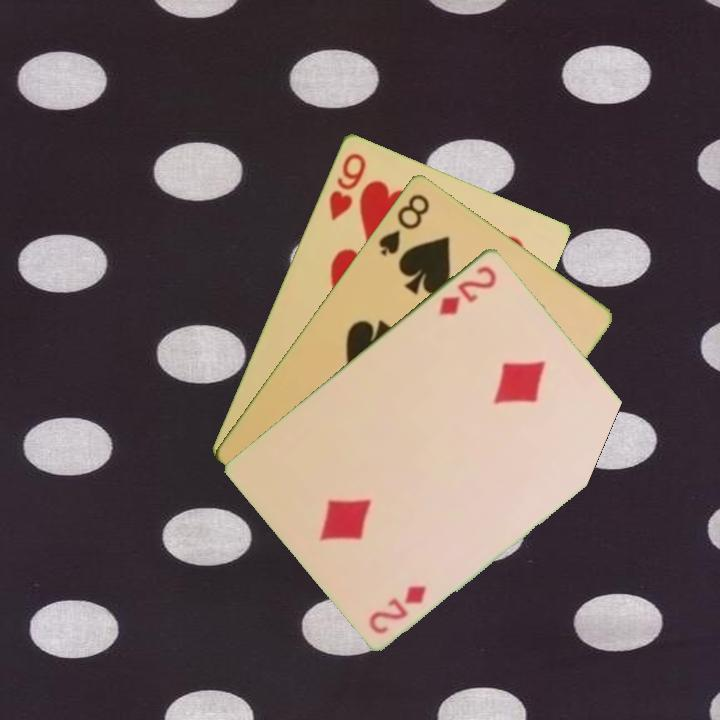2d: (435, 261, 500, 318), (365, 581, 429, 636)
8s: (374, 189, 433, 259)
9h: (325, 149, 369, 223)
